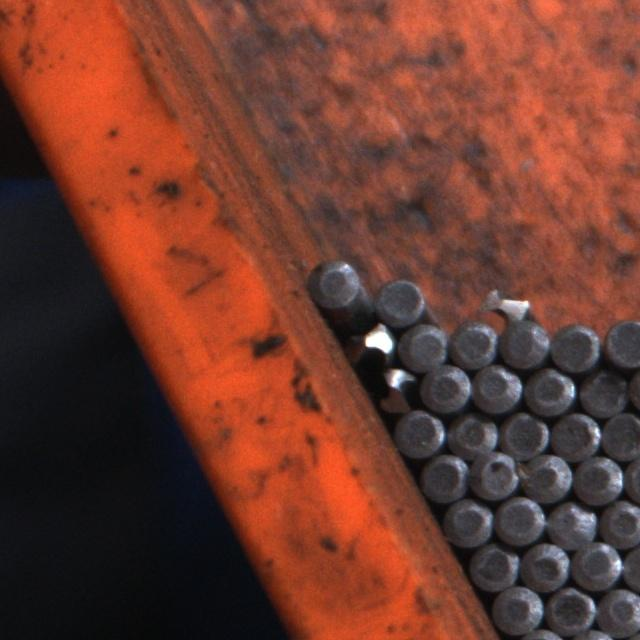tool: (524, 364, 574, 415), (419, 362, 470, 412), (520, 451, 570, 502), (467, 541, 518, 591), (393, 408, 443, 459), (490, 585, 542, 634), (494, 496, 544, 546), (549, 322, 599, 372), (417, 452, 467, 502), (442, 498, 492, 548), (472, 362, 521, 413), (470, 448, 519, 499), (520, 540, 569, 590), (571, 539, 620, 589), (573, 454, 623, 503), (544, 585, 594, 634), (499, 319, 548, 369), (448, 317, 497, 367), (578, 366, 626, 417), (374, 277, 425, 325), (546, 499, 595, 548), (498, 410, 548, 458), (446, 410, 496, 458), (550, 411, 599, 459), (398, 323, 446, 371), (315, 257, 362, 304), (374, 361, 420, 407), (597, 586, 640, 635), (599, 410, 640, 460), (599, 498, 640, 546), (603, 316, 640, 368), (356, 319, 399, 360)
